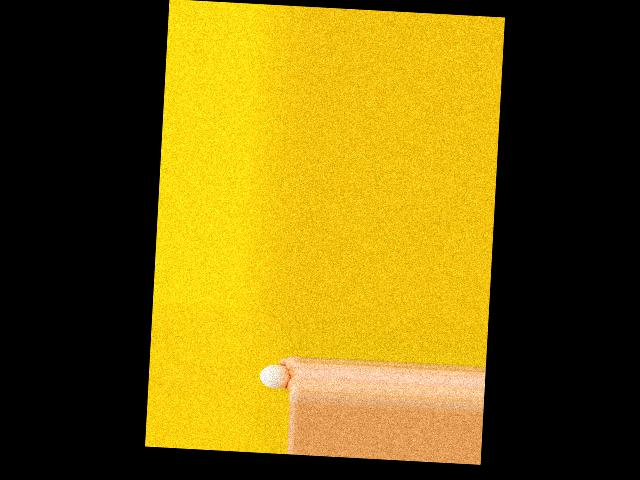egg: (259, 363, 290, 388)
